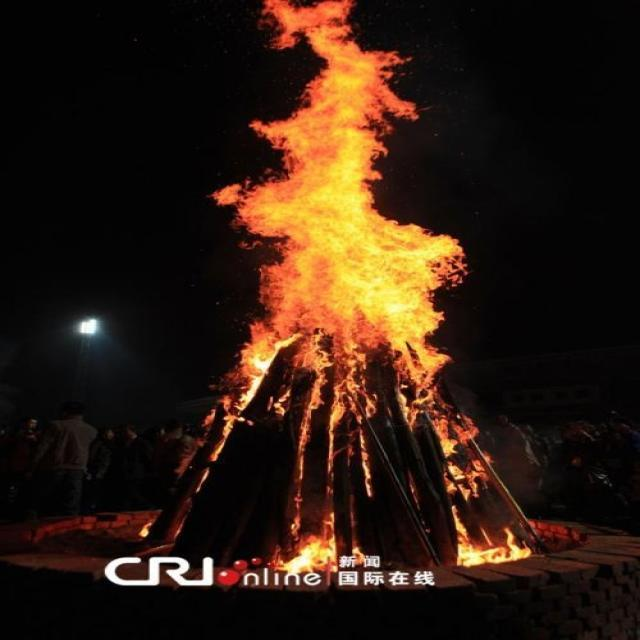Fire: (200, 0, 536, 572)
